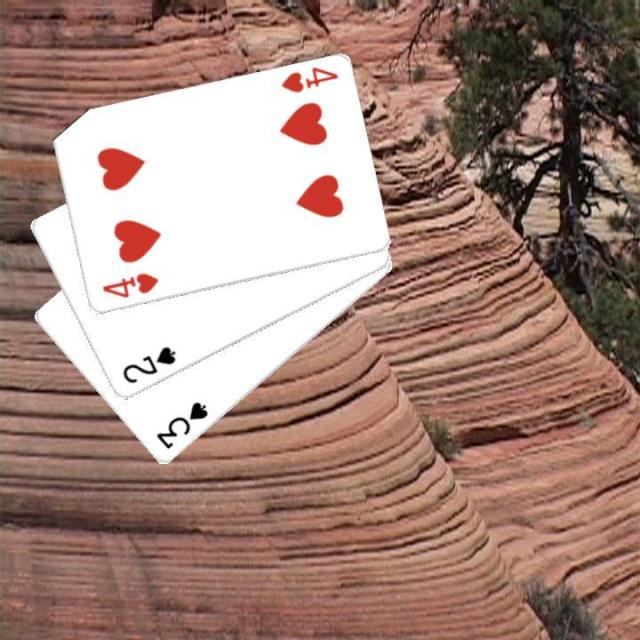2S: (118, 342, 178, 386)
3S: (152, 398, 210, 452)
4H: (278, 63, 340, 95), (98, 270, 160, 300)
